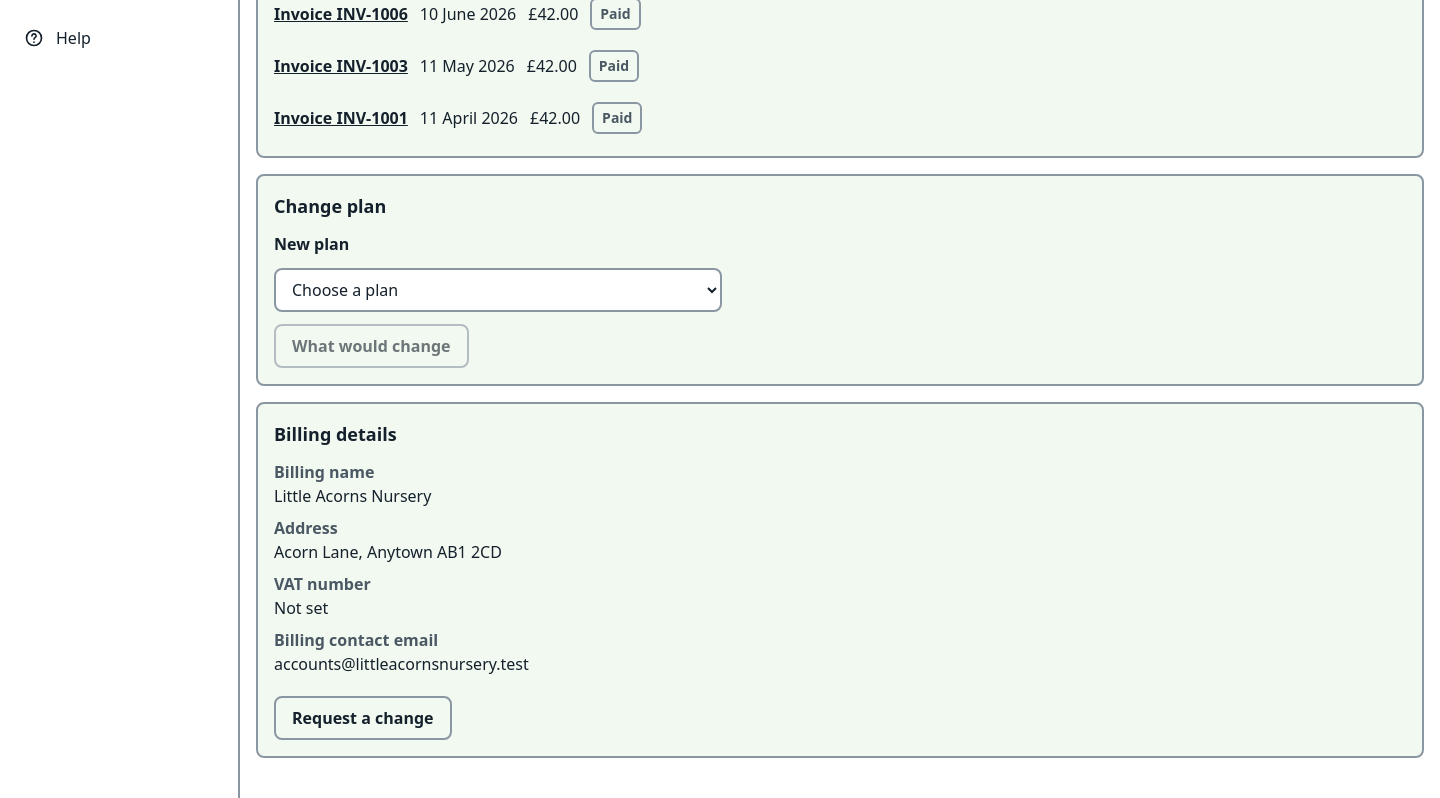
Test: C19 Billing › sends billing details changes as a request and leaves the profile alone
The image size is (1440, 798).
(page scrolled)
Click the button "Request a change" at [363, 718], box [274, 696, 452, 740]
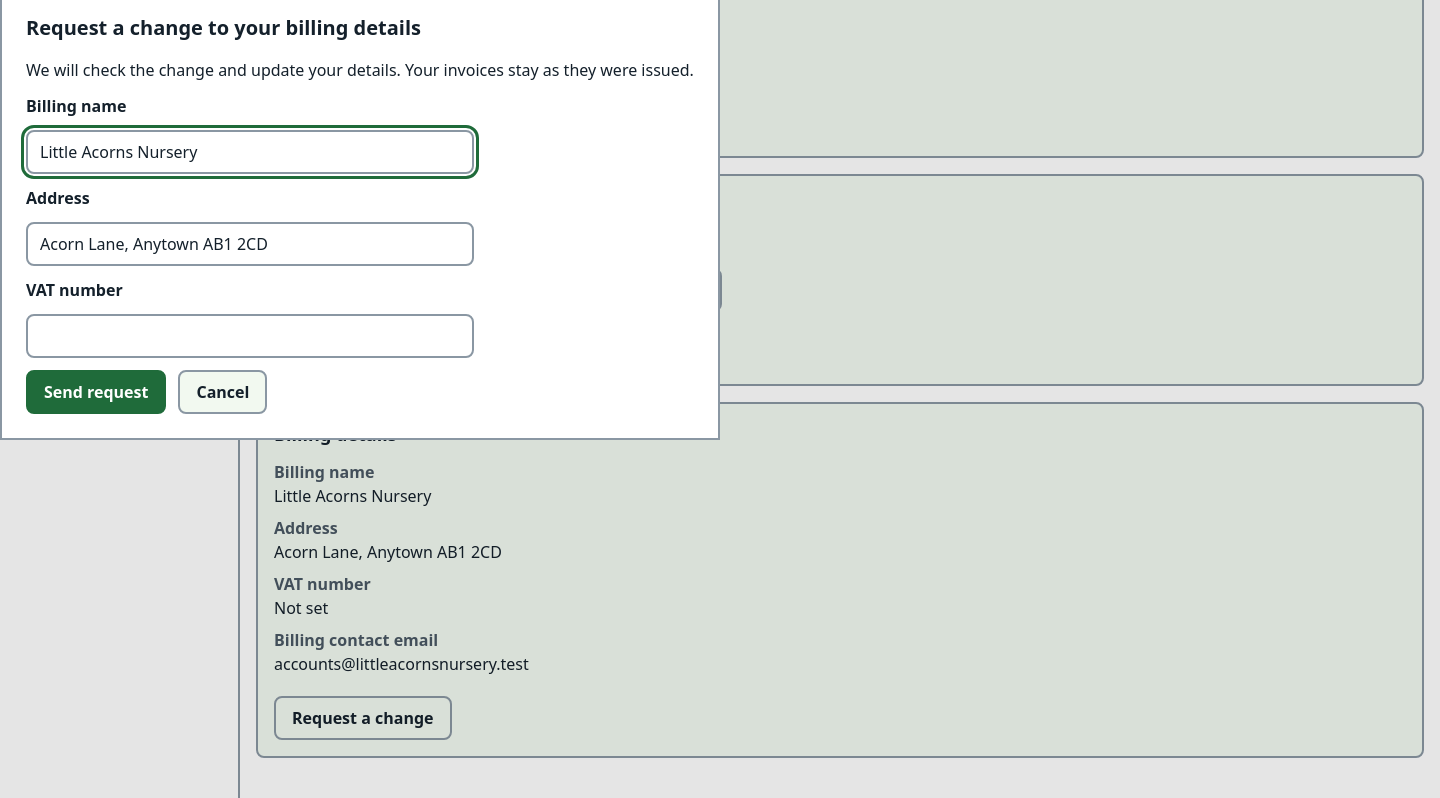
Replace the text in the field labelled "Billing name" with "Acorn Childcare Ltd" at [250, 152], box [26, 130, 474, 174]
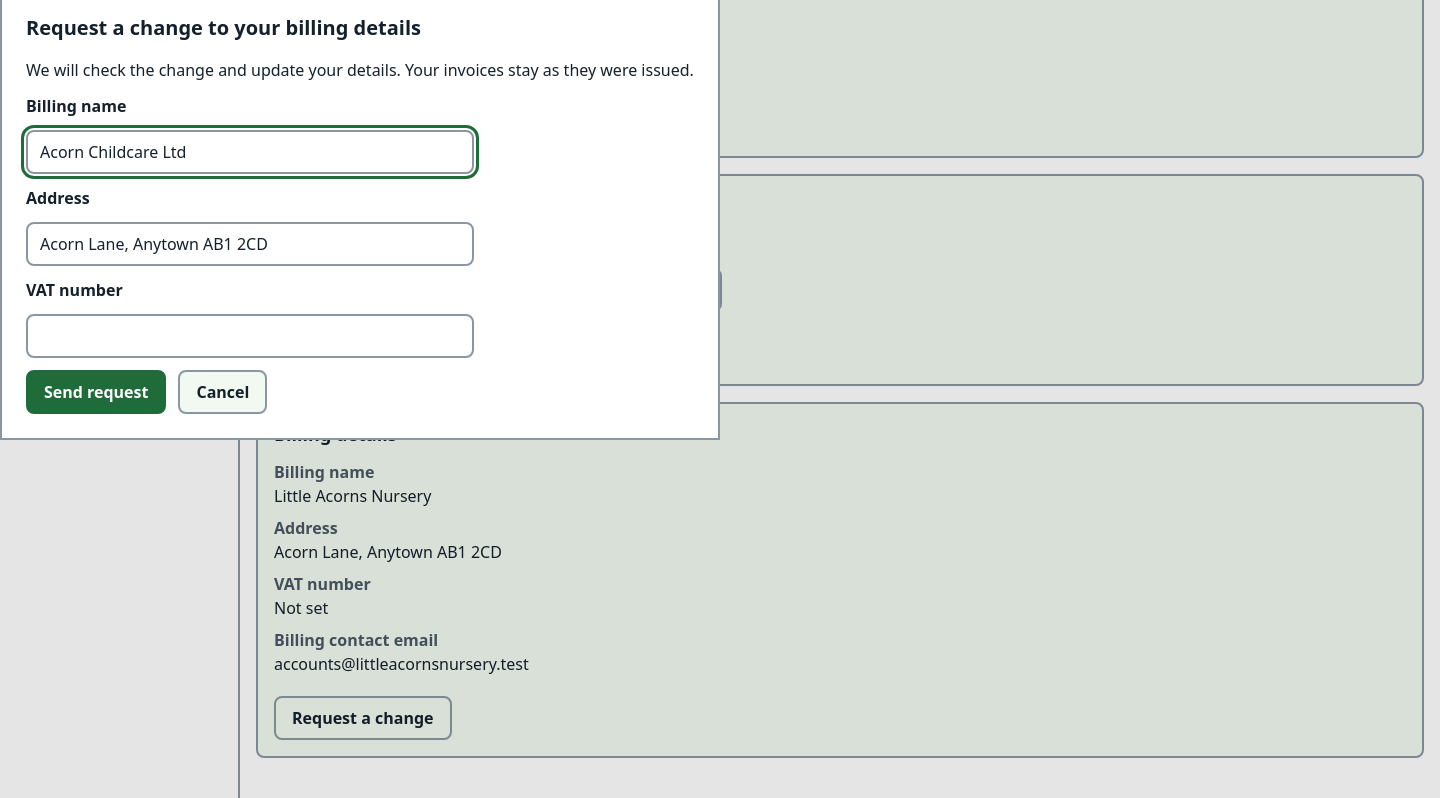
Click the button "Send request" at [96, 392], box [26, 370, 166, 414]
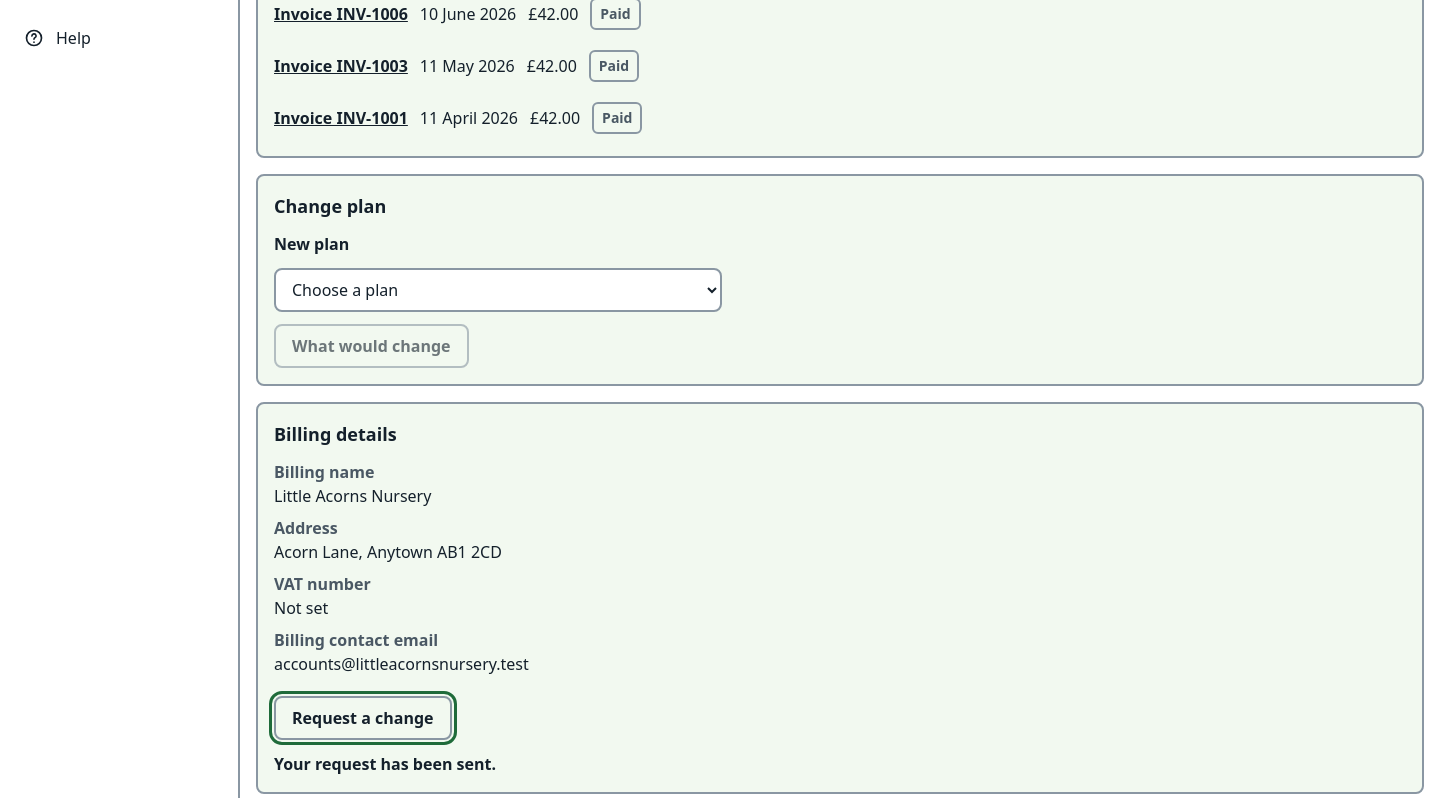
Expected: the text "Your request has been sent." is shown, [274, 753, 496, 775]
